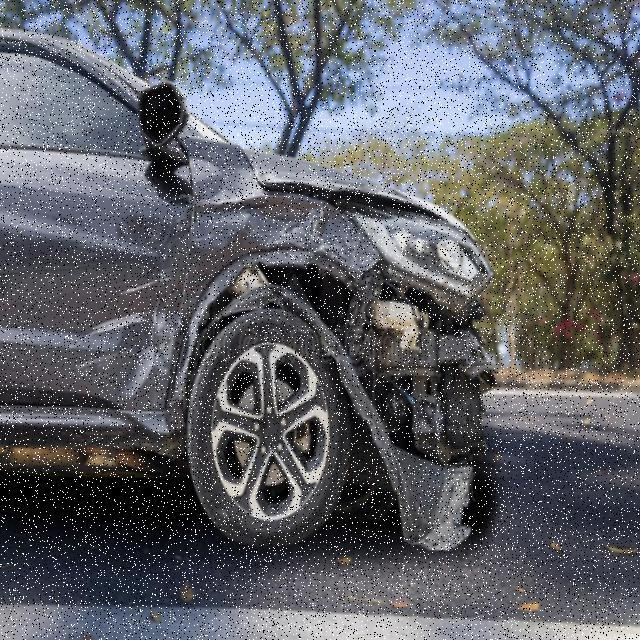doorouter-dent: (0, 146, 178, 414)
fender-dent: (188, 162, 368, 318)
front-bumper-dent: (371, 305, 514, 518)
